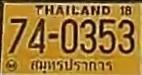0: (61, 18, 77, 53)
3: (117, 18, 134, 53), (79, 18, 96, 52)
4: (28, 18, 44, 52)
5: (98, 18, 115, 53)
7: (8, 18, 26, 52)
SPK: (28, 55, 113, 75)
